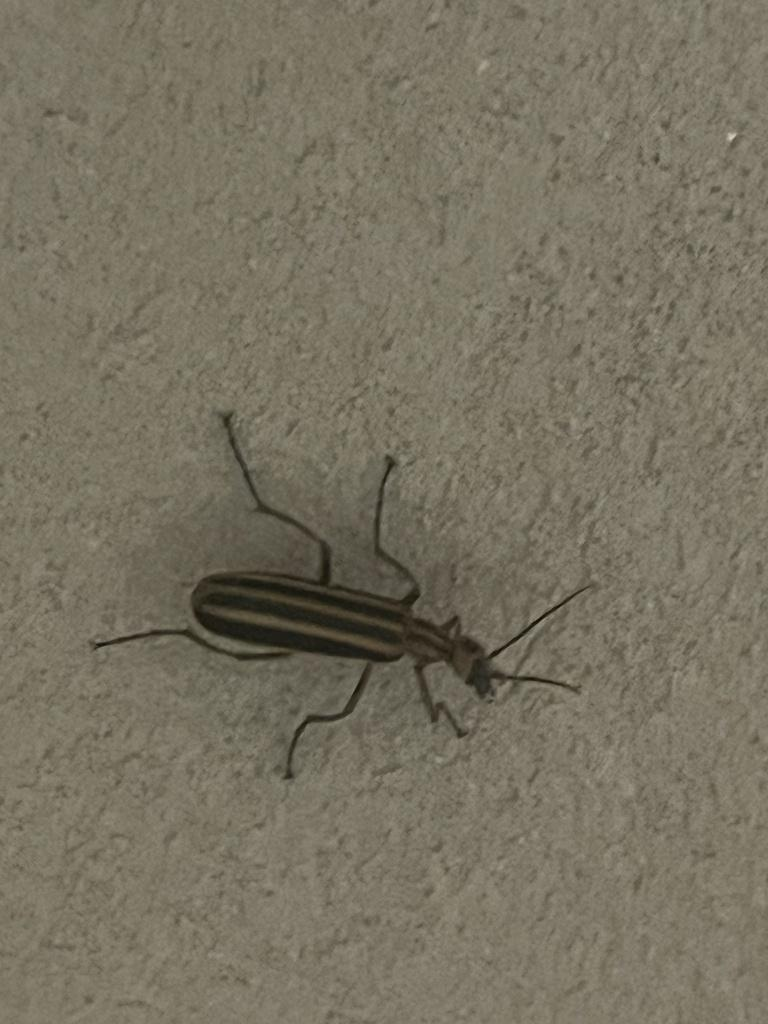blister_beetle: (42, 350, 632, 862)
